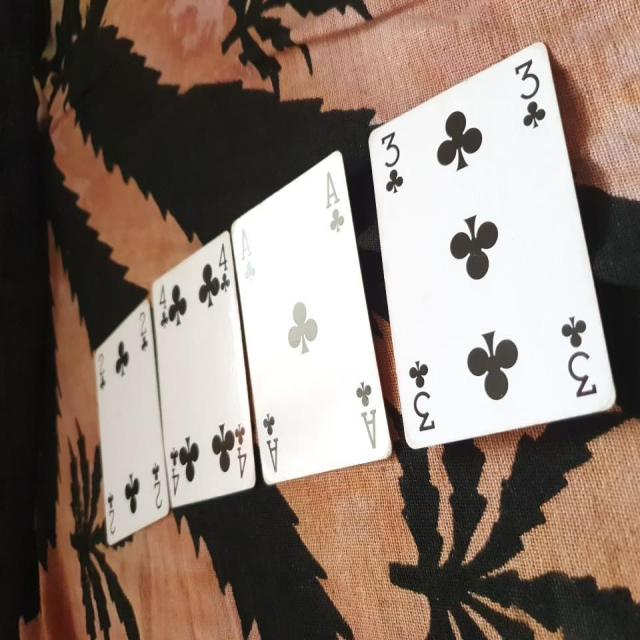2 Trefoils: (92, 296, 169, 546)
3 Trefoils: (366, 42, 616, 450)
4 Trefoils: (153, 227, 257, 508)
A Trefoils: (227, 149, 394, 488)
